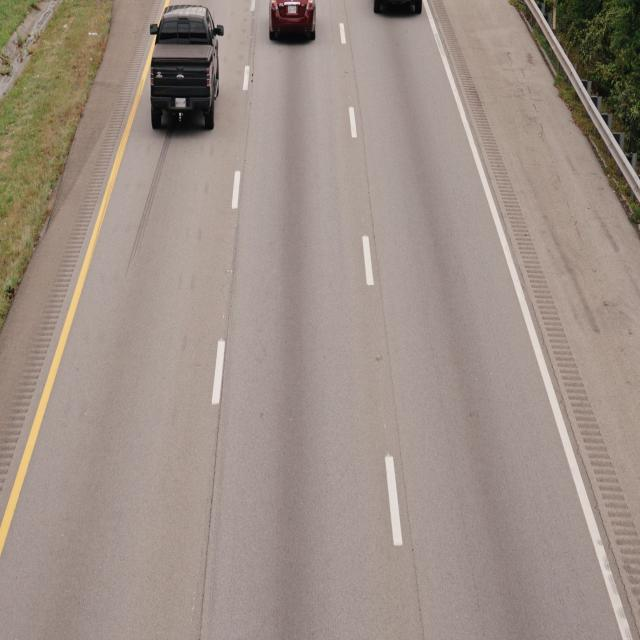Car: (148, 3, 224, 133), (265, 0, 321, 48)
